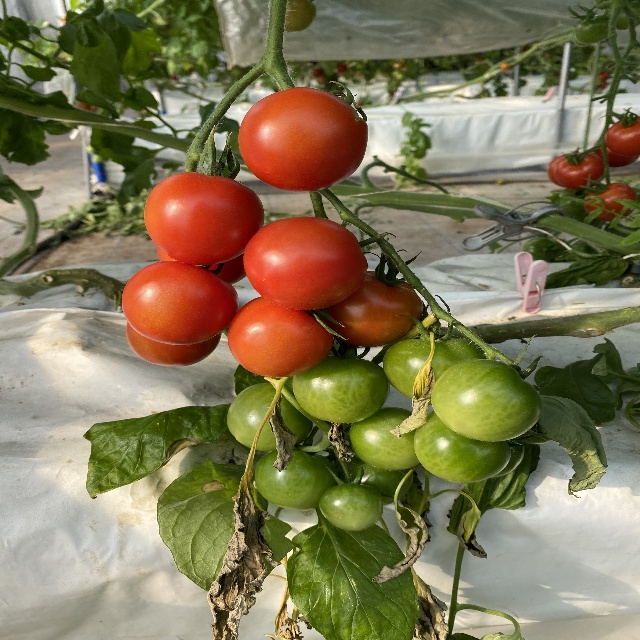l_fully_ripened: (239, 86, 369, 192), (243, 216, 369, 312), (144, 171, 266, 265), (120, 262, 239, 347), (228, 296, 333, 379), (127, 321, 221, 367), (581, 182, 637, 221), (554, 153, 603, 190), (592, 133, 640, 168), (604, 118, 640, 157)
l_green: (430, 359, 542, 442), (382, 335, 490, 406), (413, 412, 511, 484), (292, 354, 391, 423), (226, 381, 313, 452), (253, 448, 336, 511), (349, 407, 425, 472), (332, 455, 413, 505), (318, 484, 386, 533)
l_half_ripened: (319, 270, 425, 347)
